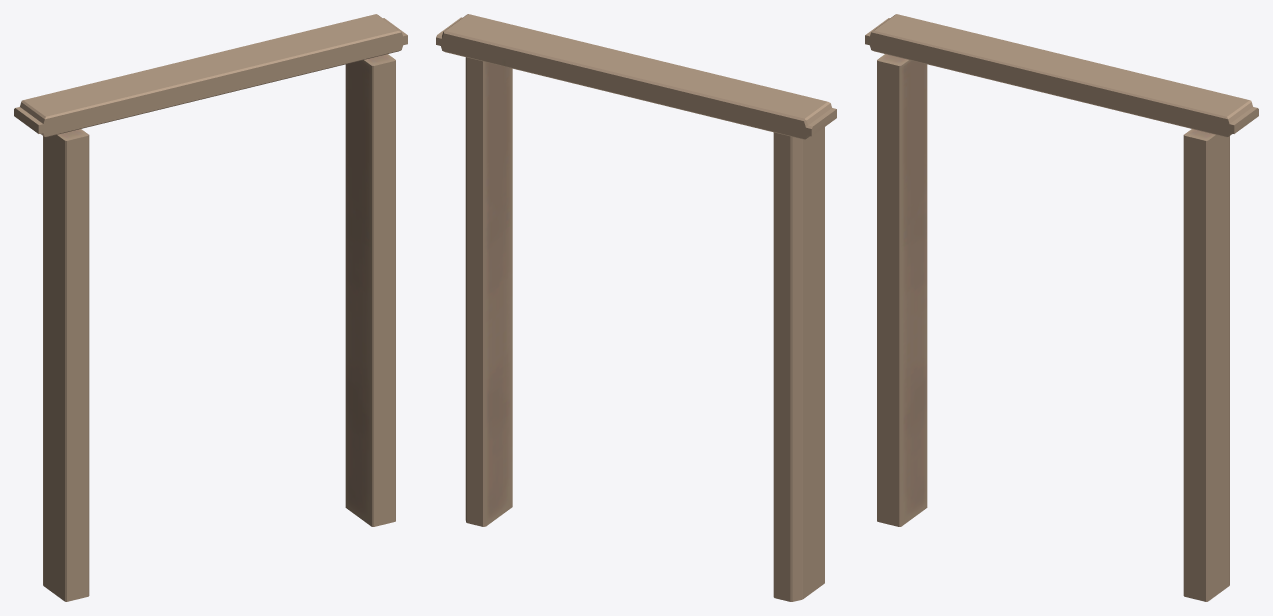
File: DoorFrame.fbx
3 views of the same model, side by side, from view 1: azimuth 30°, elevation 25°; view 2: azimuth 150°, elevation 25°; view 3: azimuth 330°, elevation 25° (orthographic).
Visible parts, largest first — view 1: doorSideFrame1, DoorFrameBig (1), doorTopFrame; view 2: DoorFrameBig (1), doorSideFrame1, doorTopFrame; view 3: DoorFrameBig (1), doorSideFrame1, doorTopFrame.
Part boxes in pixels (x1,y1,x2,y2): doorSideFrame1: [345, 54, 395, 526]; DoorFrameBig (1): [43, 129, 89, 601]; doorTopFrame: [14, 14, 407, 137]; DoorFrameBig (1): [773, 127, 824, 601]; doorSideFrame1: [465, 57, 512, 526]; doorTopFrame: [436, 14, 836, 139]; DoorFrameBig (1): [877, 54, 927, 526]; doorSideFrame1: [1183, 129, 1229, 601]; doorTopFrame: [865, 14, 1258, 137].
Size of the model in its own units: 8.49 by 10.59 by 1.3.
